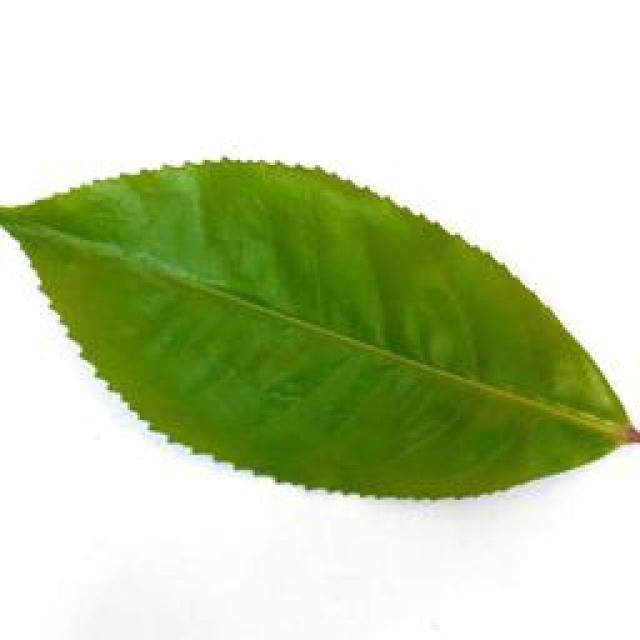Healthy: (2, 154, 640, 508)
